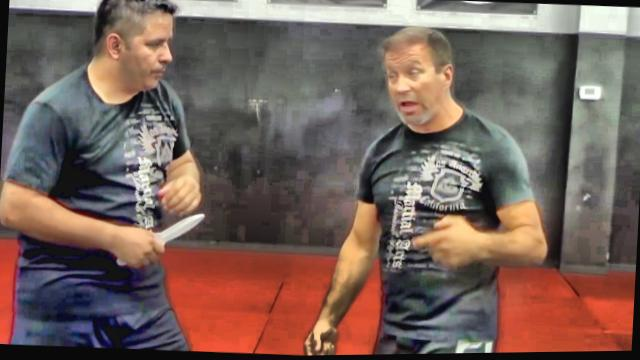knife: (112, 204, 208, 275)
